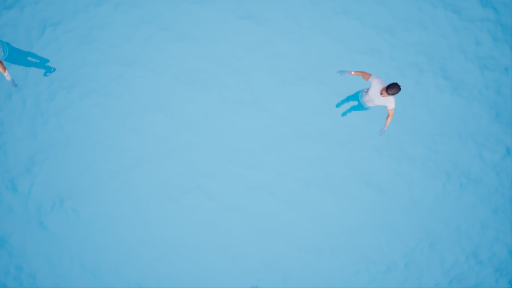person: (333, 67, 400, 140)
